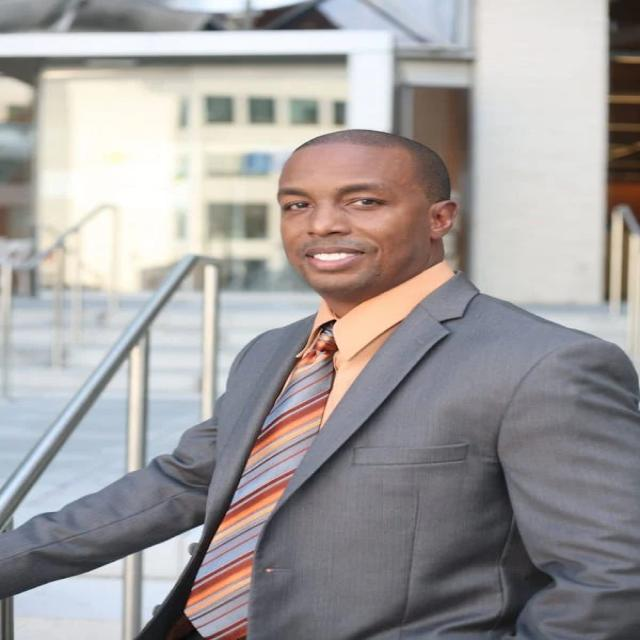Real human 2: (64, 114, 640, 640)
